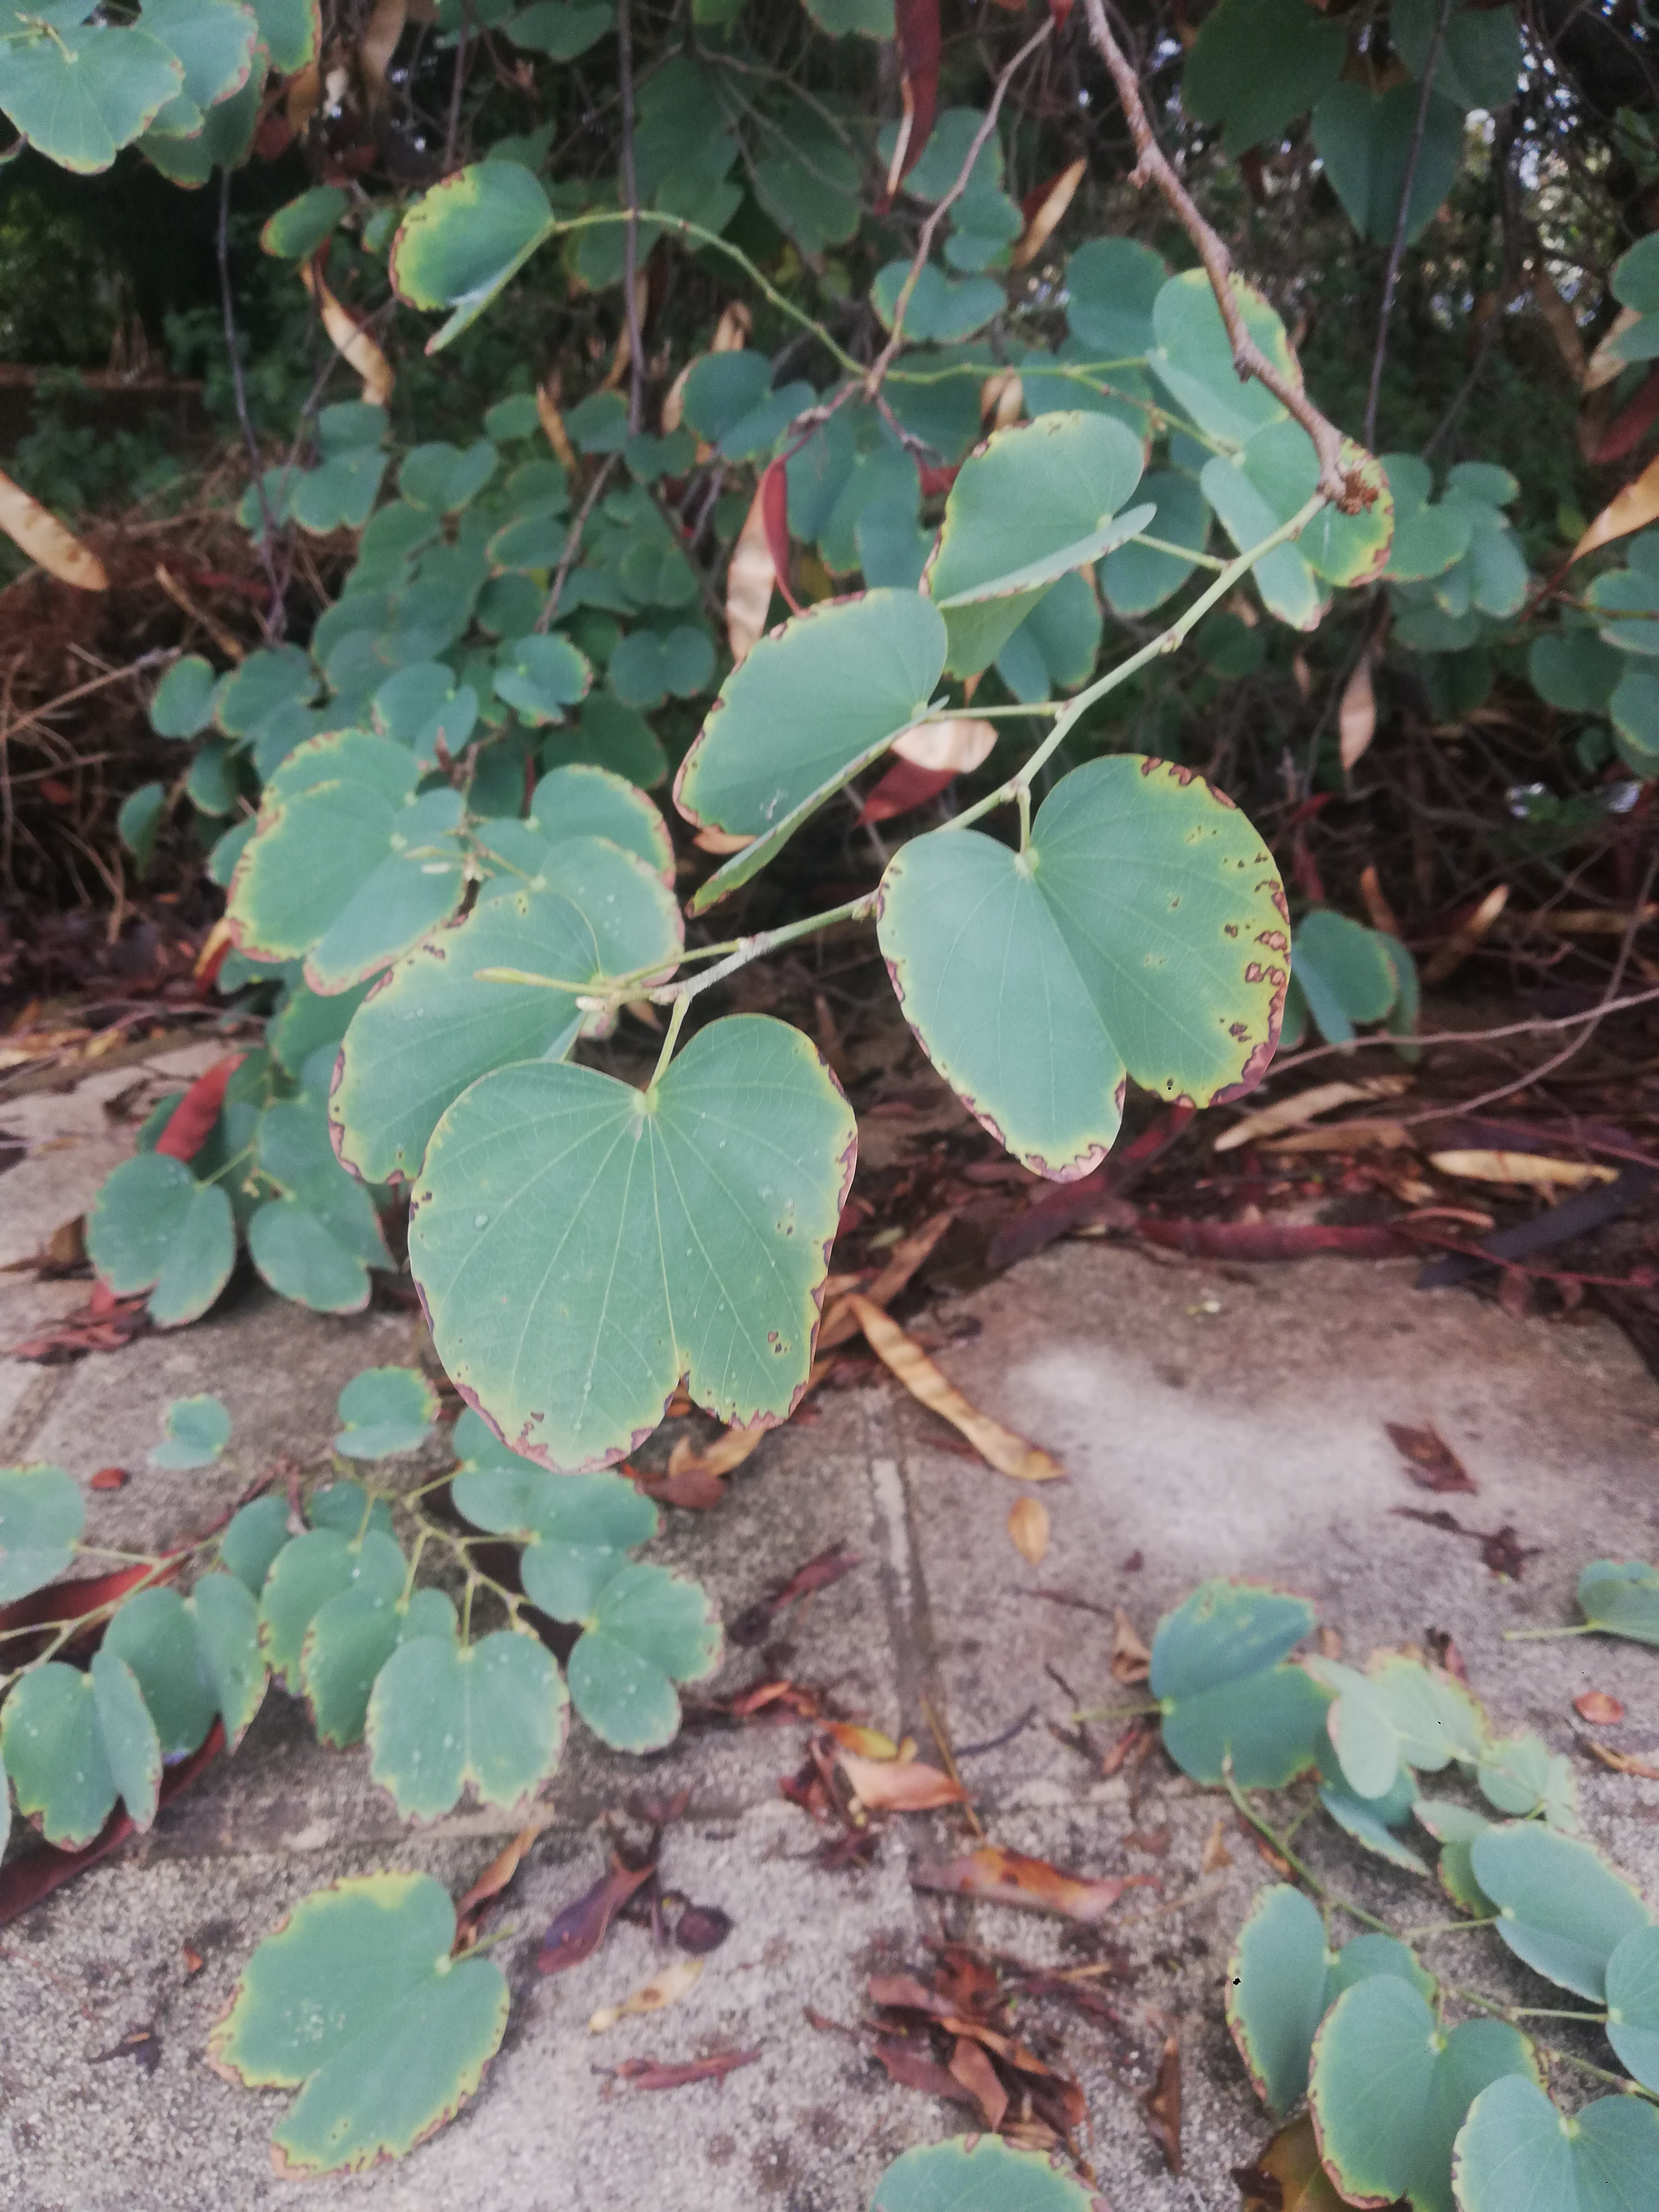nothealthy: (411, 1010, 866, 1470), (864, 756, 1302, 1193), (221, 768, 464, 998)
